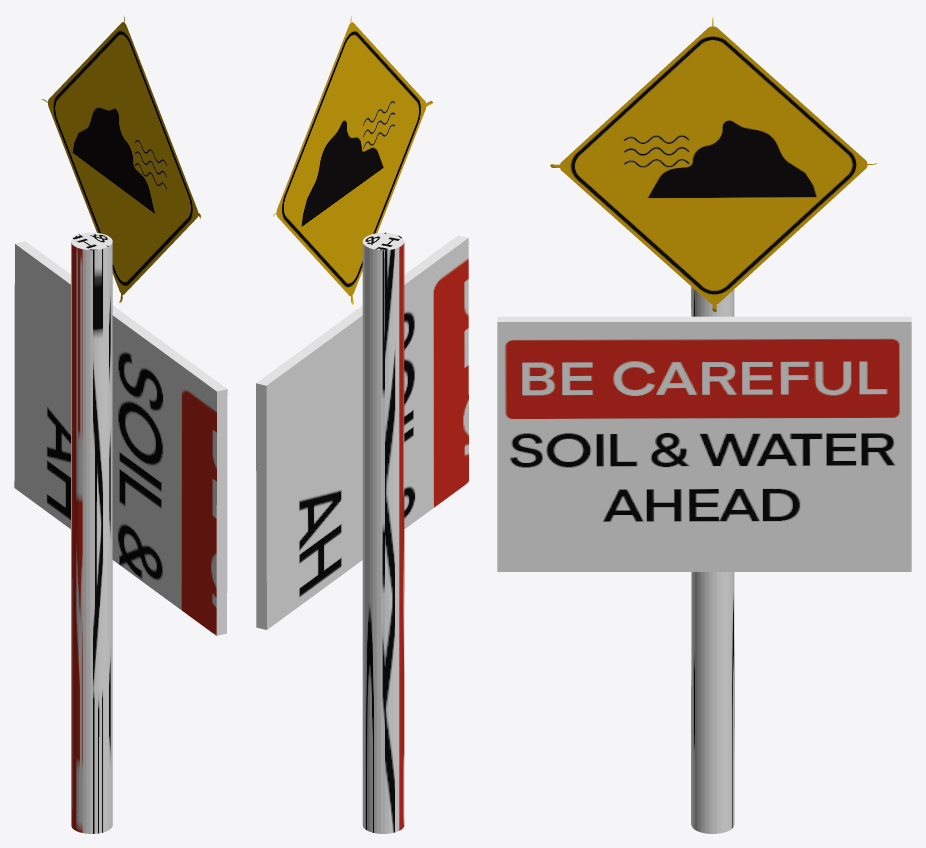
The model's file is guide2.fbx.
3 renders of one model, left to right at view 1: azimuth 30°, elevation 25°; view 2: azimuth 150°, elevation 25°; view 3: azimuth 270°, elevation 25°, orthographic. The views are drawn at different scales.
Parts seen in each view (by area): view 1: Cylinder; view 2: Cylinder; view 3: Cylinder.
Part boxes in pixels (x1,y1,x2,y2): Cylinder: [14, 16, 227, 833]; Cylinder: [256, 16, 468, 833]; Cylinder: [497, 17, 911, 833].
Bounding box in the file's own units: 27.49 × 418 × 190.
Materials: 2 (2 with a texture image).
